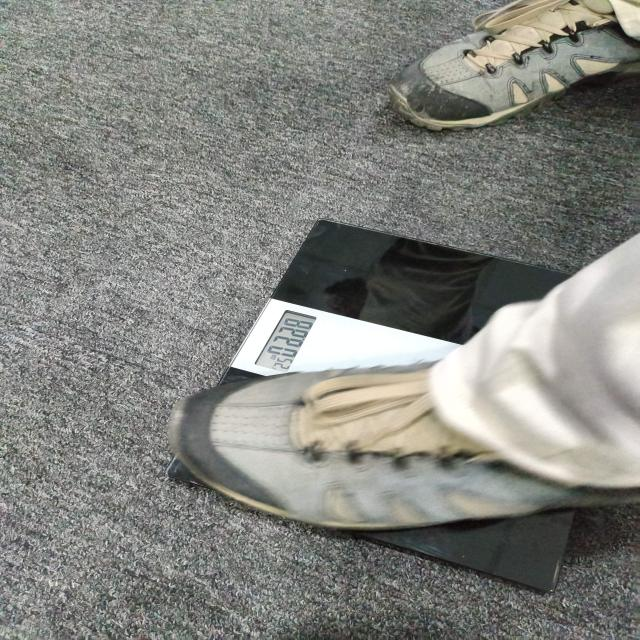ws: (170, 222, 640, 539)
